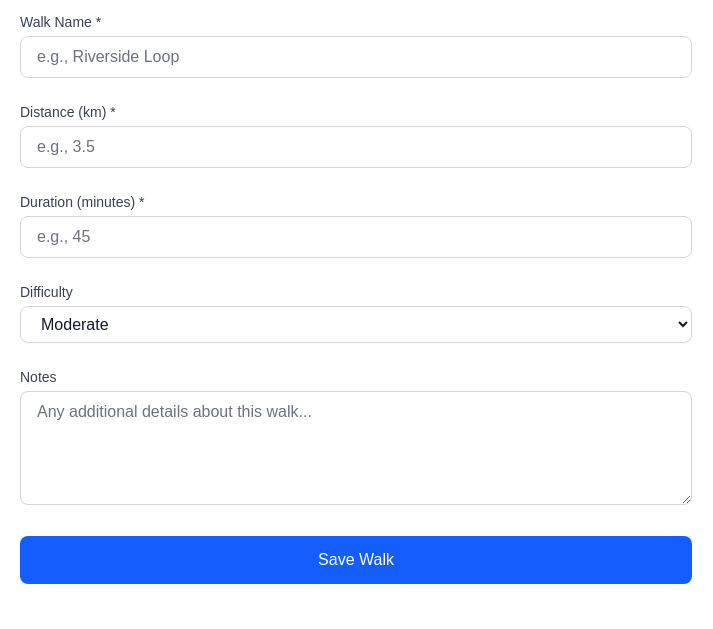
Test case: AddWalkForm › Validation › shows error when distance is 0
This screenshot has width=713, height=629.
In the field labelled "Walk Name *": (356, 57) x1=20 y1=36 x2=692 y2=78, type "Test Walk"
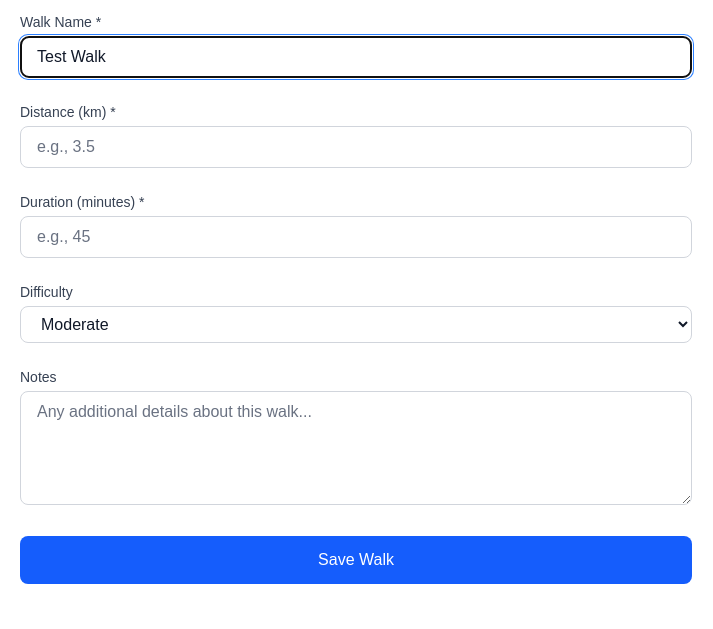
Note: Distance defaults to 0
In the number field labelled "Duration (minutes) *": (356, 237) x1=20 y1=216 x2=692 y2=258, type "30"
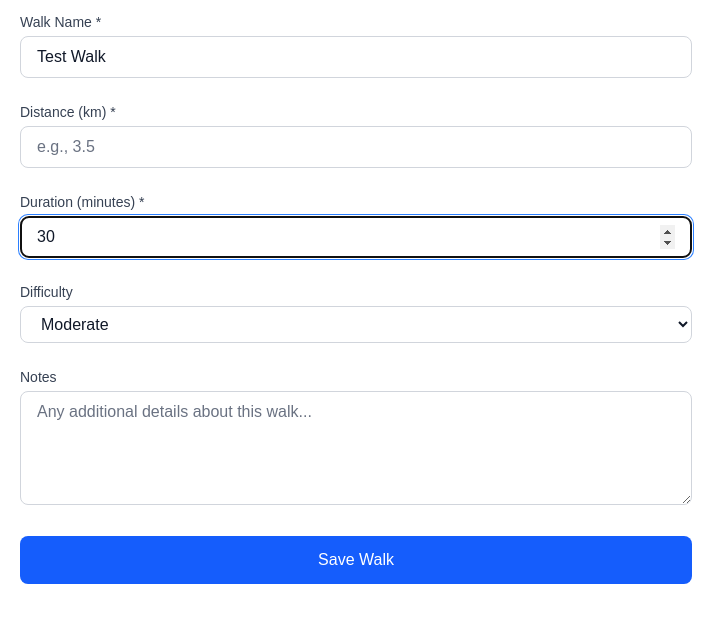
Click the button "Save Walk": (356, 560) x1=20 y1=536 x2=692 y2=584
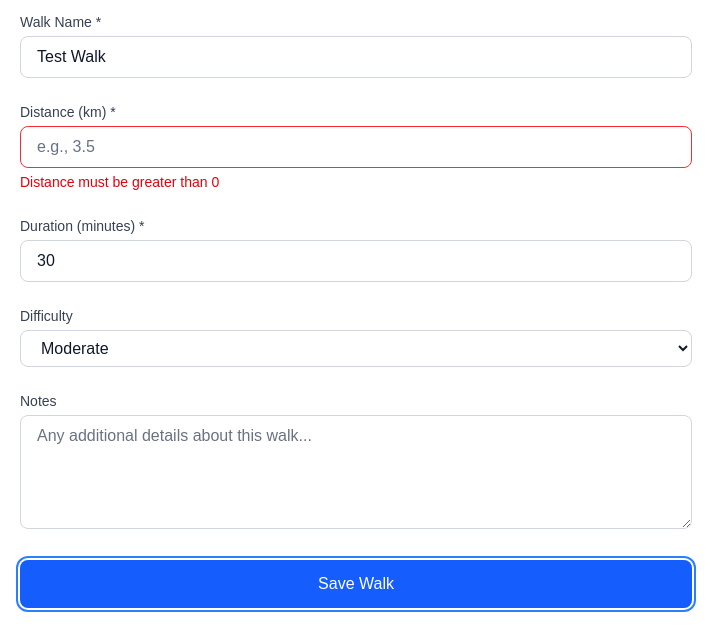
Expected: the text "Distance must be greater than 0" is shown, x1=20 y1=174 x2=219 y2=190
